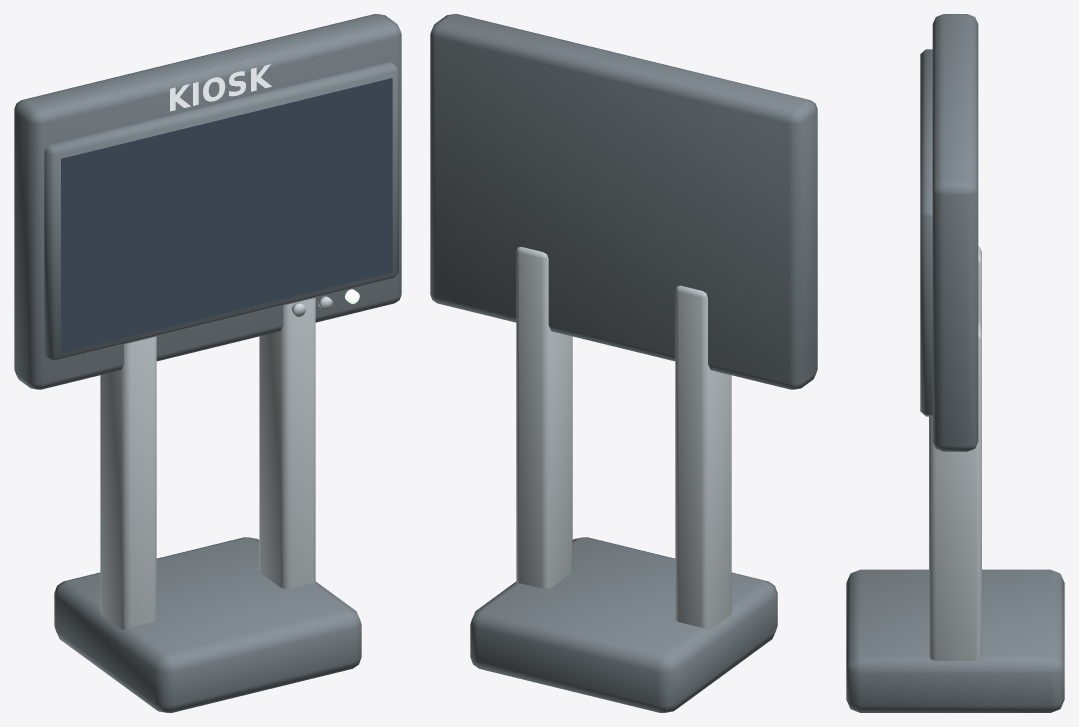
The model's file is kiosk_ultra.glb.
3 renders of one model, left to right at view 1: azimuth 30°, elevation 25°; view 2: azimuth 150°, elevation 25°; view 3: azimuth 270°, elevation 25°, orthographic. The views are drawn at different scales.
Parts seen in each view (by area): view 1: LiveViewSurface_glass, DisplayHousing_frame, Base_frame, Support_steel, LiveViewSurfaceFrame_frame, TypeLabel_white; view 2: DisplayHousing_frame, Support_steel, Base_frame; view 3: Base_frame, DisplayHousing_frame, Support_steel, LiveViewSurfaceFrame_frame.
Boxes of the visible parts, bbox=[...] form: LiveViewSurface_glass: bbox=[61, 78, 392, 352]; DisplayHousing_frame: bbox=[14, 14, 401, 389]; Base_frame: bbox=[54, 537, 361, 712]; Support_steel: bbox=[100, 297, 315, 629]; LiveViewSurfaceFrame_frame: bbox=[44, 62, 398, 361]; TypeLabel_white: bbox=[170, 64, 271, 111]; DisplayHousing_frame: bbox=[430, 14, 817, 389]; Support_steel: bbox=[516, 247, 731, 629]; Base_frame: bbox=[470, 537, 777, 712]; Base_frame: bbox=[846, 569, 1064, 712]; DisplayHousing_frame: bbox=[932, 14, 978, 451]; Support_steel: bbox=[929, 246, 981, 660]; LiveViewSurfaceFrame_frame: bbox=[920, 49, 932, 416].
Bounding box in the file's own units: 1.18 × 1.79 × 0.62.
